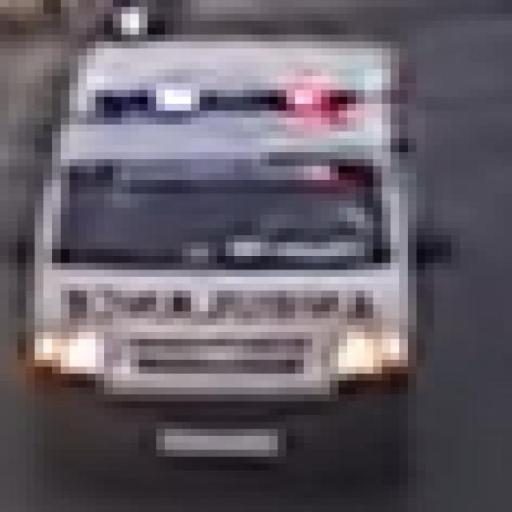Police car: (27, 39, 428, 484)
